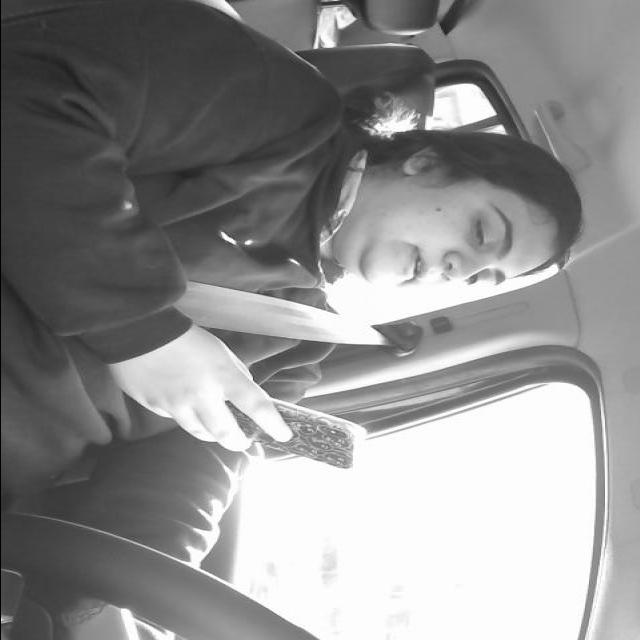mobile use: (175, 398, 372, 478)
